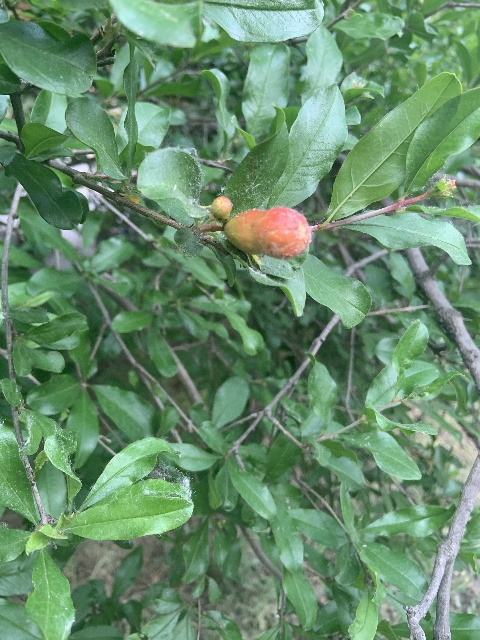bud: (223, 206, 311, 259), (211, 195, 232, 218)
